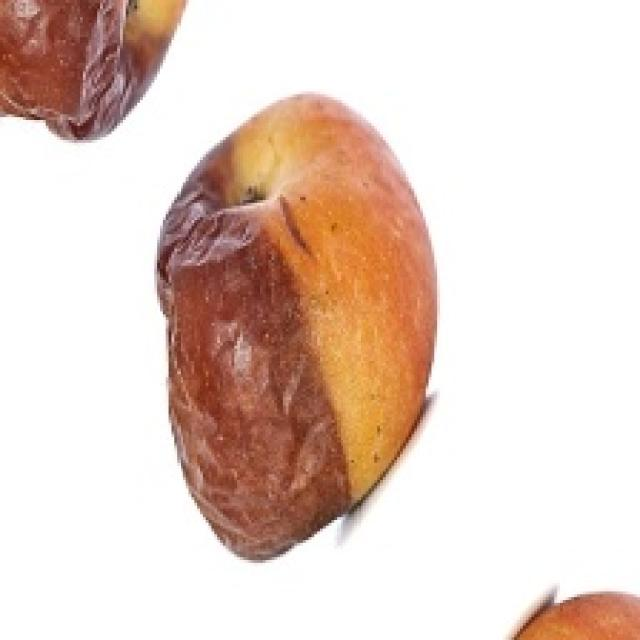rotten_apple: (159, 99, 430, 555)
